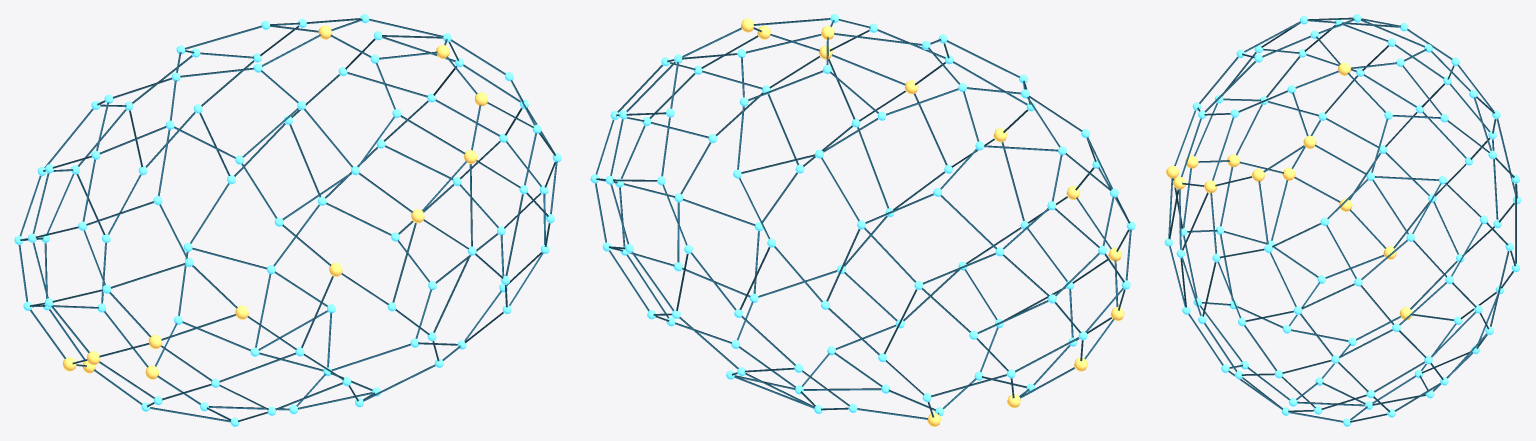
Rendered from noah-neural.glb.
3 views of the same model, side by side, from view 1: azimuth 30°, elevation 25°; view 2: azimuth 150°, elevation 25°; view 3: azimuth 270°, elevation 25° (orthographic). The views are drawn at different scales.
Visible parts, largest first — view 1: Interconnected neural edges, Neural signal nodes, Gold anchor nodes; view 2: Interconnected neural edges, Neural signal nodes, Gold anchor nodes; view 3: Interconnected neural edges, Neural signal nodes, Gold anchor nodes.
Boxes of the visible parts, box(x1,y1,x2,y2) form: Interconnected neural edges: box(18, 18, 557, 422); Neural signal nodes: box(14, 14, 561, 426); Gold anchor nodes: box(62, 25, 488, 379); Interconnected neural edges: box(595, 18, 1131, 419); Neural signal nodes: box(590, 14, 1135, 416); Gold anchor nodes: box(741, 18, 1124, 426); Interconnected neural edges: box(1168, 17, 1517, 422); Neural signal nodes: box(1164, 14, 1521, 426); Gold anchor nodes: box(1166, 62, 1412, 320).
Bounding box in the file's own units: 3.11 × 2.14 × 2.02.
